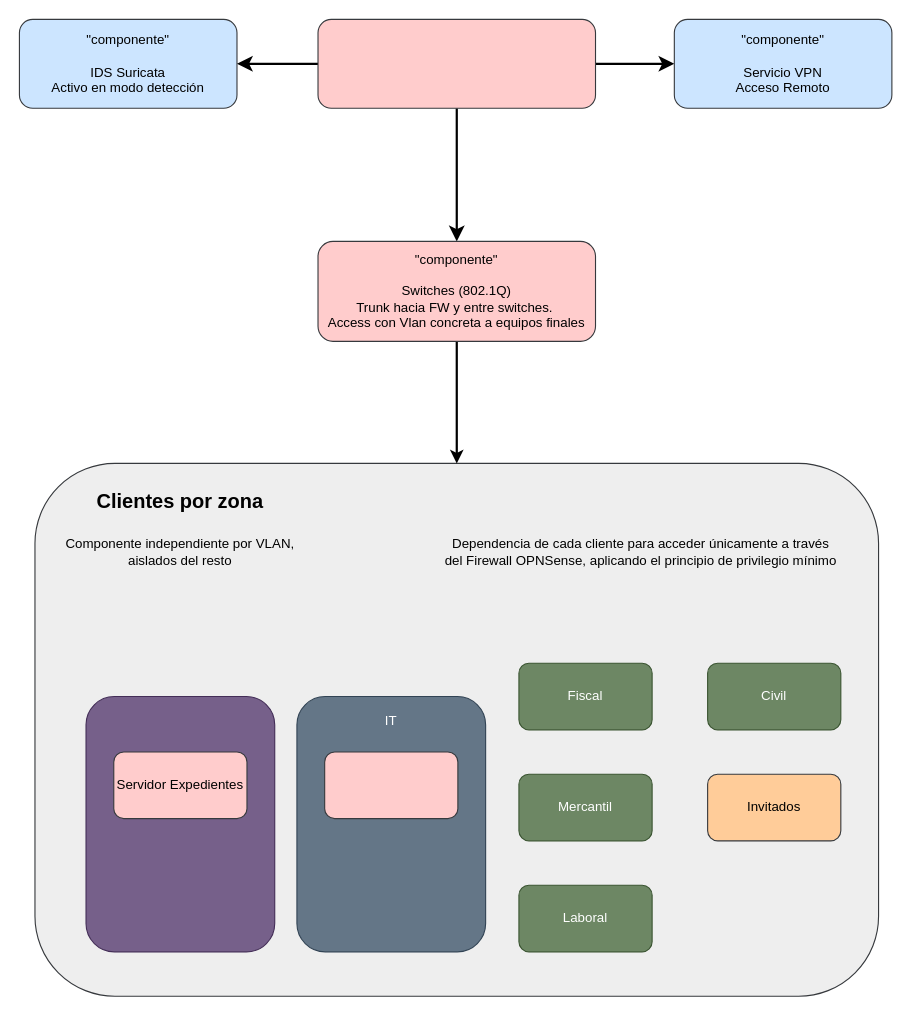
Some shapes in this 911 by 1016 pixel diagram are drawn without their labels. Each missing label, with the box of its shape:
"componente" Firewall OPNSense NAT, DHCP, Reglas, [...]: (317, 18, 596, 108)
Equipo auditoria: (324, 751, 458, 819)
Gestión: (85, 695, 275, 952)
